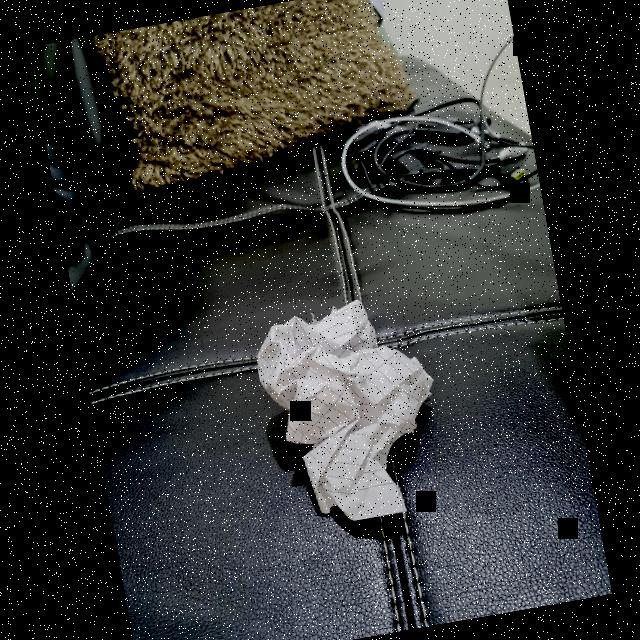scrap_paper: (249, 284, 465, 536)
